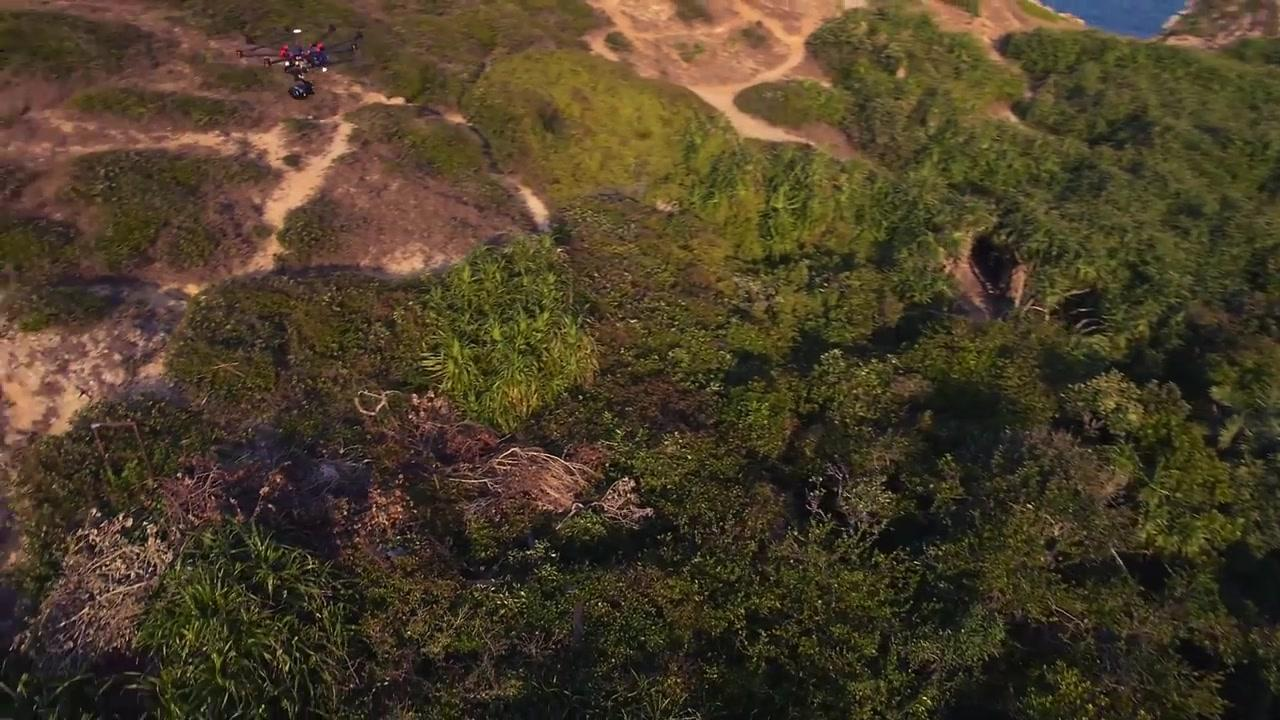UAV: (237, 30, 364, 101)
